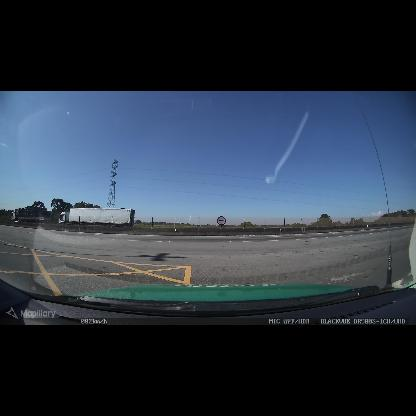R-24a: (217, 216, 226, 225)
